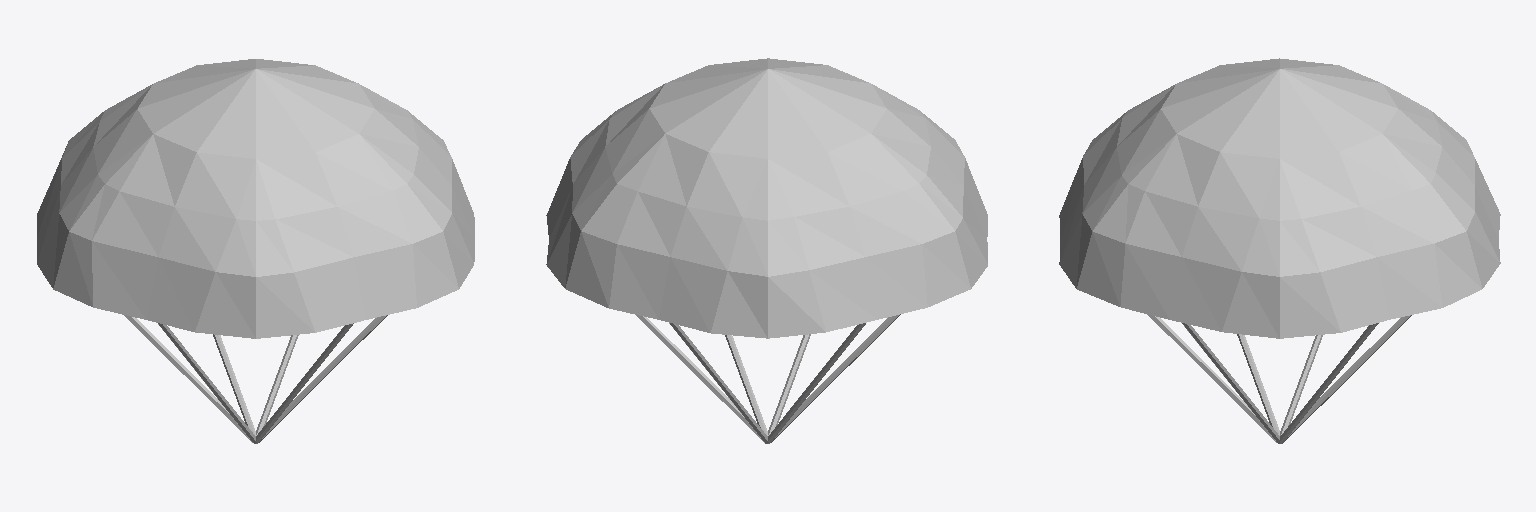
Rendered from Rocket2.obj.
The picture shows the model from 3 angles: view 1: azimuth 30°, elevation 25°; view 2: azimuth 150°, elevation 25°; view 3: azimuth 270°, elevation 25°; orthographic projection.
Visible parts, largest first — view 1: Cube.001_Cube.006, Cube.001_Cube.004, Cube.001_Cube.005, Cube.001_Cube.001, Cube.001_Cube.003, Cube.001_Cube.010, Cube.001_Cube.002; view 2: Cube.001_Cube.006, Cube.001_Cube.001, Cube.001_Cube.002, Cube.001_Cube.010, Cube.001_Cube.004, Cube.001_Cube.003, Cube.001_Cube.005; view 3: Cube.001_Cube.006, Cube.001_Cube.010, Cube.001_Cube.003, Cube.001_Cube.002, Cube.001_Cube.005, Cube.001_Cube.001, Cube.001_Cube.004.
Boxes of the visible parts, box(x1,y1,x2,y2) form: Cube.001_Cube.006: box(37, 59, 474, 338); Cube.001_Cube.004: box(124, 315, 252, 442); Cube.001_Cube.005: box(259, 315, 387, 442); Cube.001_Cube.001: box(158, 323, 255, 443); Cube.001_Cube.003: box(256, 323, 353, 443); Cube.001_Cube.010: box(213, 334, 255, 435); Cube.001_Cube.002: box(256, 335, 298, 435); Cube.001_Cube.006: box(546, 58, 987, 338); Cube.001_Cube.001: box(771, 314, 900, 442); Cube.001_Cube.002: box(636, 315, 763, 441); Cube.001_Cube.010: box(669, 323, 767, 443); Cube.001_Cube.004: box(768, 323, 865, 443); Cube.001_Cube.003: box(768, 334, 810, 435); Cube.001_Cube.005: box(725, 335, 767, 435); Cube.001_Cube.006: box(1059, 58, 1500, 338); Cube.001_Cube.010: box(1284, 315, 1411, 441); Cube.001_Cube.003: box(1147, 314, 1276, 442); Cube.001_Cube.002: box(1280, 323, 1378, 443); Cube.001_Cube.005: box(1182, 323, 1279, 443); Cube.001_Cube.001: box(1237, 334, 1279, 435); Cube.001_Cube.004: box(1280, 335, 1322, 435).
Bounding box in the file's own units: 5.87 × 5.17 × 5.53.